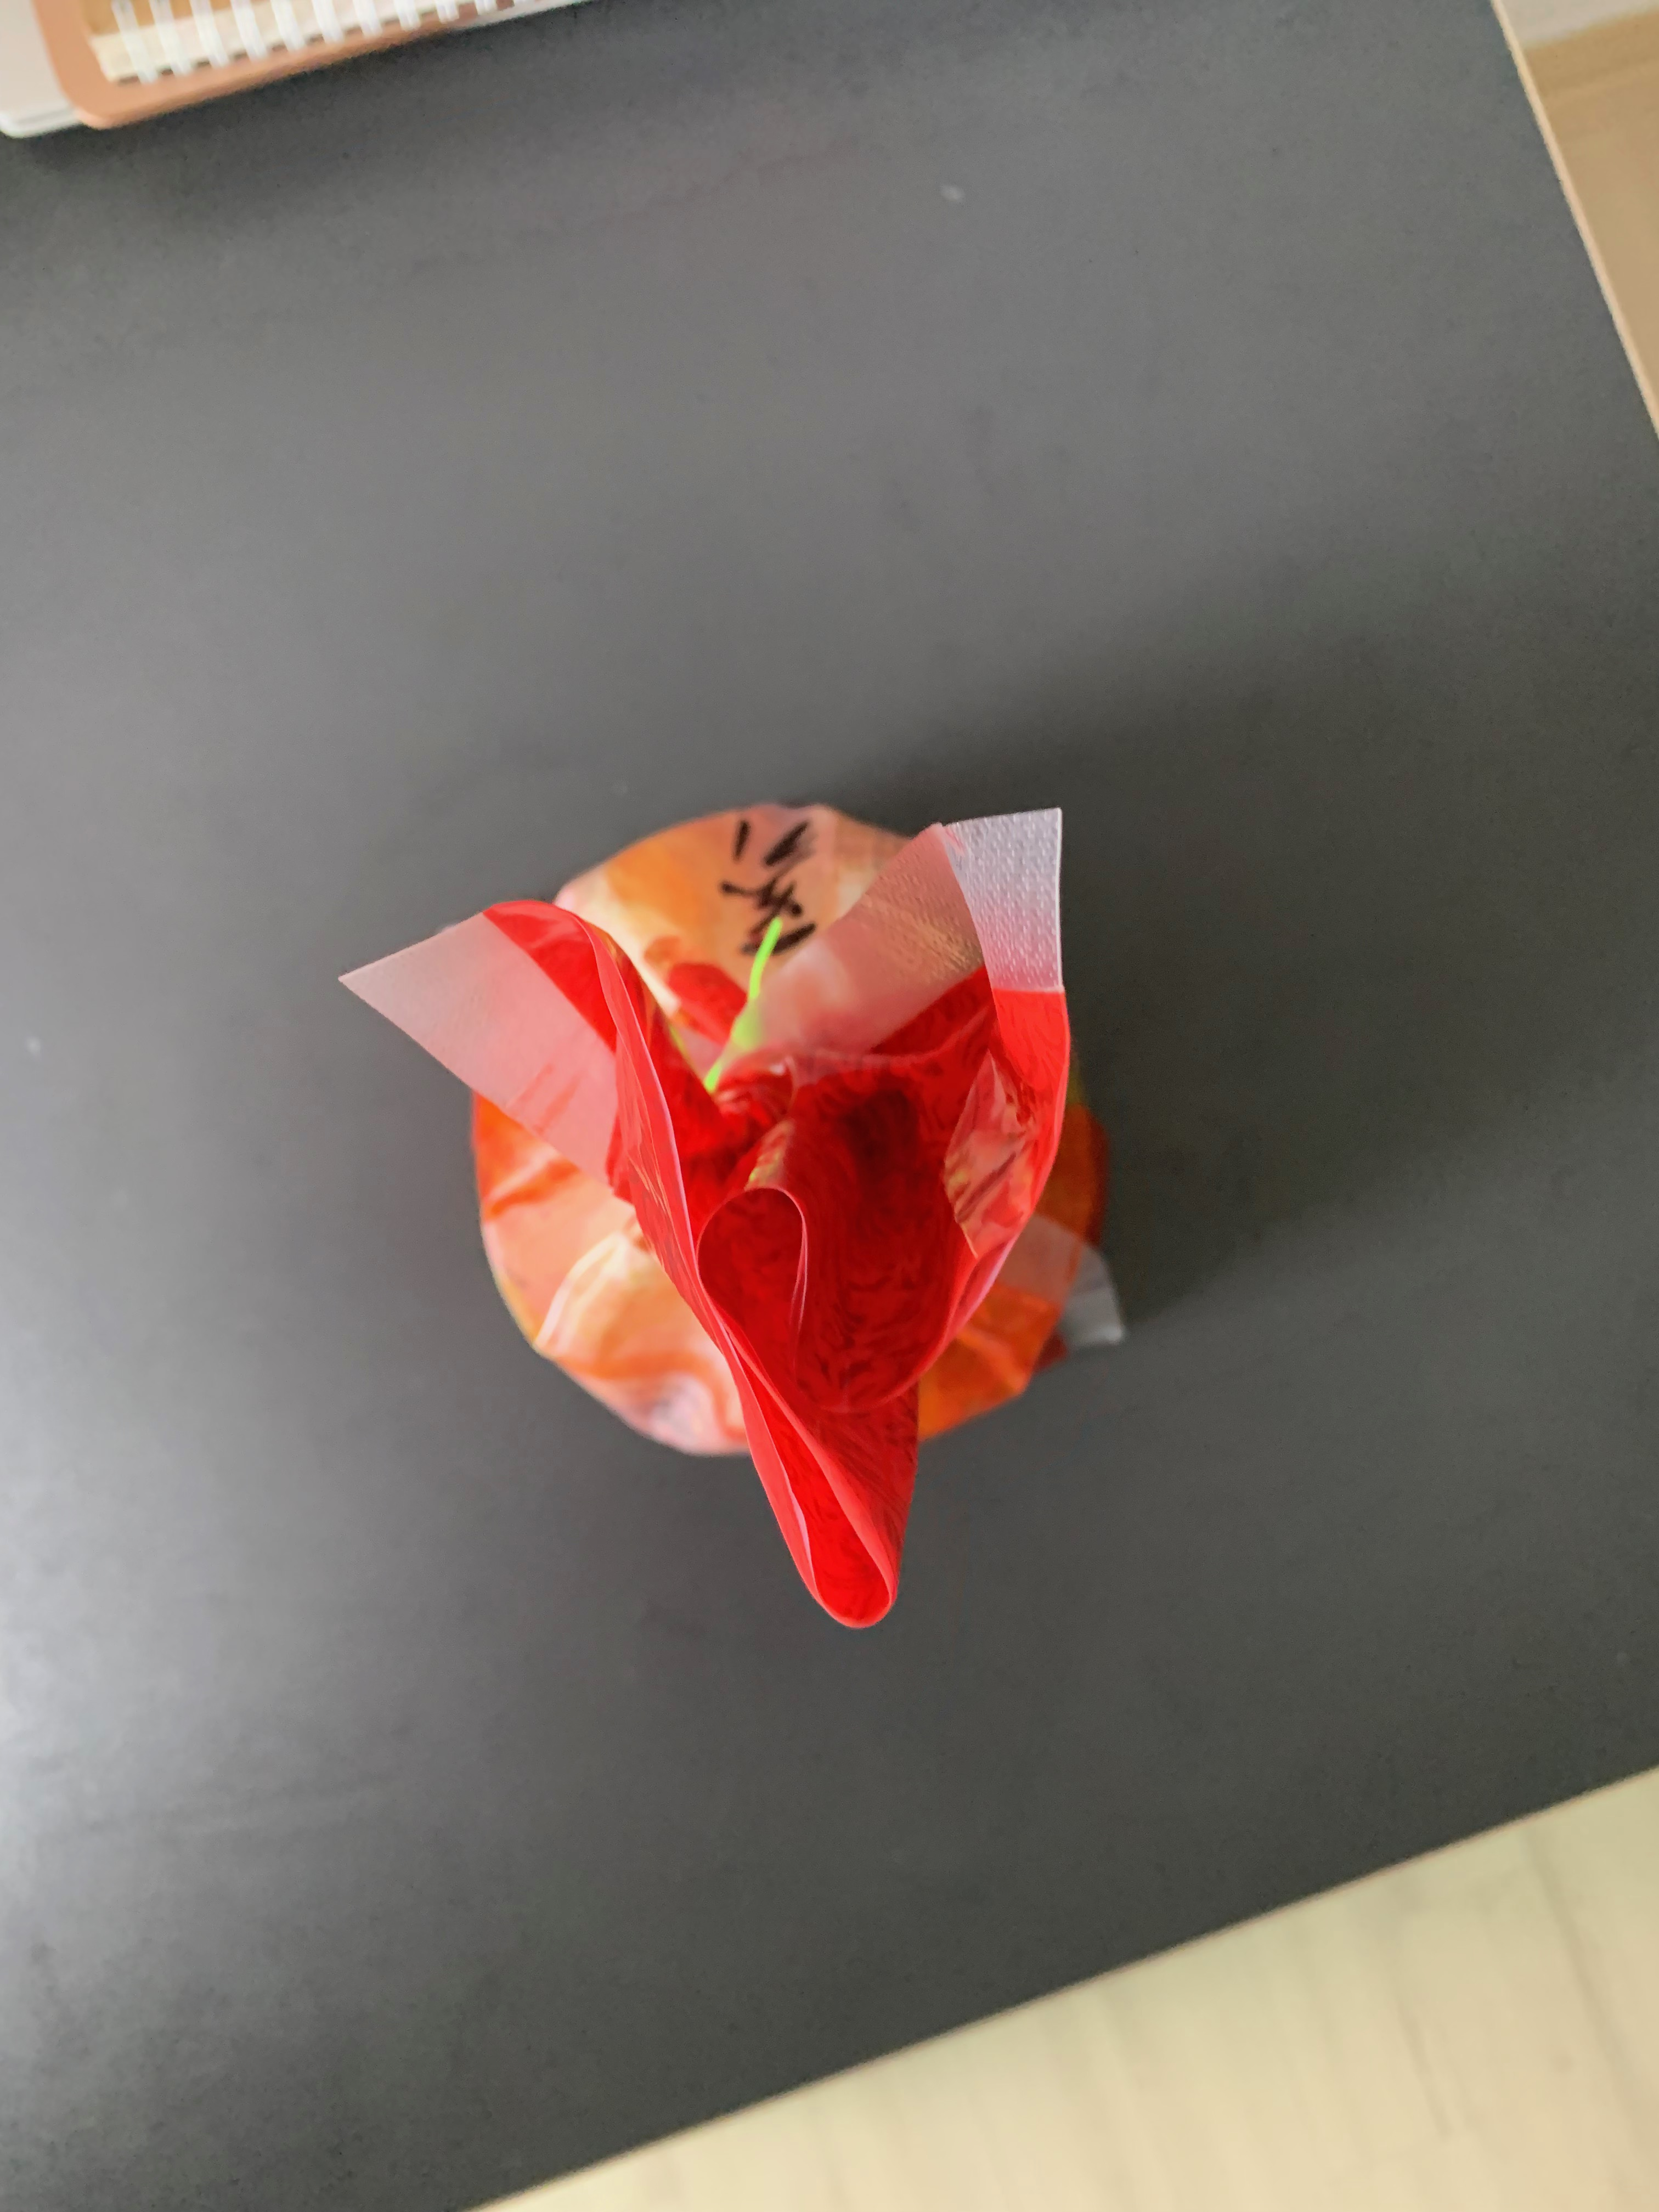kimchi: (476, 801, 1098, 1627)
